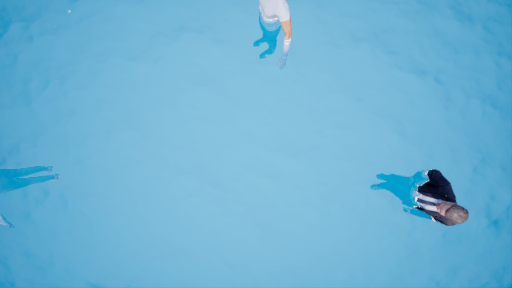person: (367, 160, 472, 235), (245, 1, 308, 79)
